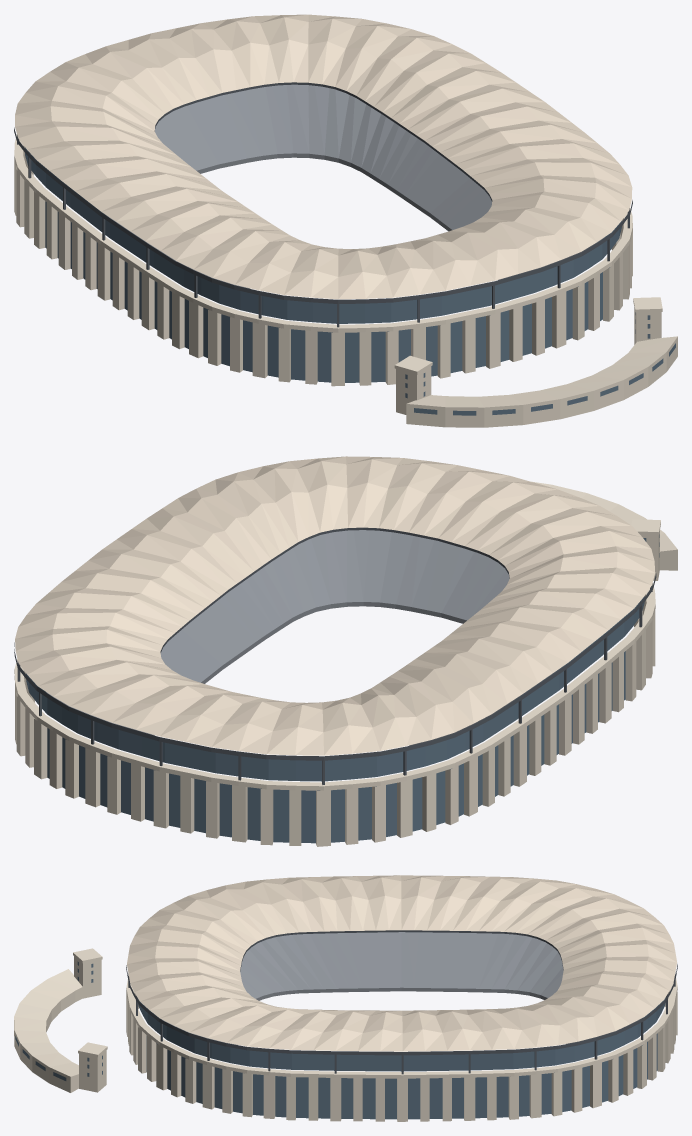
Rendered from istanbul-vodafone-park.glb.
3 renders of one model, top to bottom at view 1: azimuth 30°, elevation 25°; view 2: azimuth 150°, elevation 25°; view 3: azimuth 270°, elevation 25°, orthographic. The views are drawn at different scales.
Parts seen in each view (by area): view 1: Tüpraş Stadium; view 2: Tüpraş Stadium; view 3: Tüpraş Stadium.
Boxes of the visible parts, left/top/right/bottom form: Tüpraş Stadium: left=14, top=14, right=677, bottom=427; Tüpraş Stadium: left=14, top=456, right=677, bottom=846; Tüpraş Stadium: left=14, top=875, right=677, bottom=1121.
Bounding box in the file's own units: 162 × 34.3 × 257.
